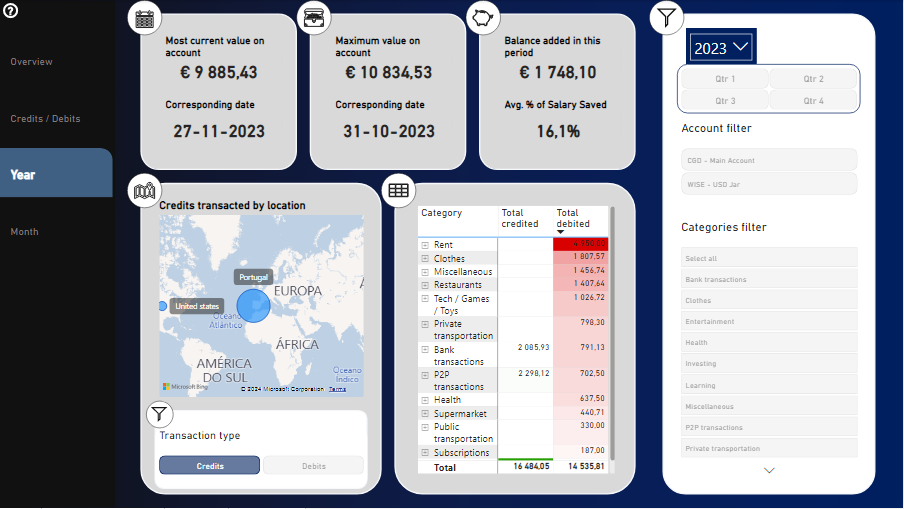

The page's visual inventory and layout, read from the dashboard file:
{"tool":"powerbi","page":{"name":"Year","canvas":[1280,720],"ordinal":2},"visuals":[{"type":"advancedSlicerVisual","fields":{"Values":["Calendar.Date.Variation.Date Hierarchy.Quarter"]},"box":[960,90,260,70],"z":0},{"type":"slicer","fields":{"Values":["Calendar.Year"]},"box":[972.6,39.9,100,50.6],"z":1000},{"type":"pivotTable","fields":{"Rows":["Categories.Category","Stores.Store"],"Values":["Sum(Credits.Transaction)","Sum(Debits.Transaction)"]},"box":[580.7,280.1,300.5,399.8],"z":2000},{"type":"card","title":"Balance added in this period","fields":{"Values":["Balances.Value Added During Current Year"]},"box":[700,40,180,90],"z":3000},{"type":"card","title":"Avg. % of Salary Saved","fields":{"Values":["Credits.Average % of Salary Saved"]},"box":[700,130,180,90],"z":4000},{"type":"pageNavigator","box":[0,30,160,350],"z":5000},{"type":"actionButton","title":"Information button","box":[0,0,30,30],"z":6000},{"type":"advancedSlicerVisual","title":"Categories filter","fields":{"Values":["Categories.Category"]},"box":[960,310,260,370],"z":7000},{"type":"advancedSlicerVisual","title":"Account filter","fields":{"Values":["Accounts.Account_full_name"]},"box":[960,170,260,130],"z":8000},{"type":"card","title":"Most current value on account","fields":{"Values":["Balances.Current Balance"]},"box":[220,40,180,90],"z":9000},{"type":"card","title":"Corresponding date","fields":{"Values":["Balances.Latest Date"]},"box":[220,130,180,90],"z":10000},{"type":"card","title":"Corresponding date","fields":{"Values":["Balances.Max Balance Date"]},"box":[460,130,180,90],"z":11000},{"type":"card","title":"Maximum value on account","fields":{"Values":["Balances.Max Daily Balance"]},"box":[460,40,180,89.5],"z":12000},{"type":"map","fields":{"Category":["Locations.Location Hierarchy.Region","Locations.Location Hierarchy.Country","Locations.Location Hierarchy.City"],"Size":["Locations._map_values"]},"box":[220,280,300,290],"z":13000},{"type":"advancedSlicerVisual","fields":{"Values":["Transaction type.Transaction type"]},"box":[220,606,300.5,85],"z":14000}]}

Visuals, with their boxes on the page's 1280x720 design canvas (x1, y1, x2, y2). These are canvas units, not pixel positions in the 904x509 screenshot, which may show the page scaled, cropped or inside an application window:
advancedSlicerVisual - Calendar.Date.Variation.Date Hierarchy.Quarter: detection(960, 90, 1220, 160)
slicer - Calendar.Year: detection(973, 40, 1073, 90)
pivotTable - Categories.Category x Stores.Store: detection(581, 280, 881, 680)
"Balance added in this period" card: detection(700, 40, 880, 130)
"Avg. % of Salary Saved" card: detection(700, 130, 880, 220)
pageNavigator: detection(0, 30, 160, 380)
"Information button" actionButton: detection(0, 0, 30, 30)
"Categories filter" advancedSlicerVisual: detection(960, 310, 1220, 680)
"Account filter" advancedSlicerVisual: detection(960, 170, 1220, 300)
"Most current value on account" card: detection(220, 40, 400, 130)
"Corresponding date" card: detection(220, 130, 400, 220)
"Corresponding date" card: detection(460, 130, 640, 220)
"Maximum value on account" card: detection(460, 40, 640, 130)
map - Locations.Location Hierarchy.Region x Locations.Location Hierarchy.Country: detection(220, 280, 520, 570)
advancedSlicerVisual - Transaction type.Transaction type: detection(220, 606, 520, 691)
